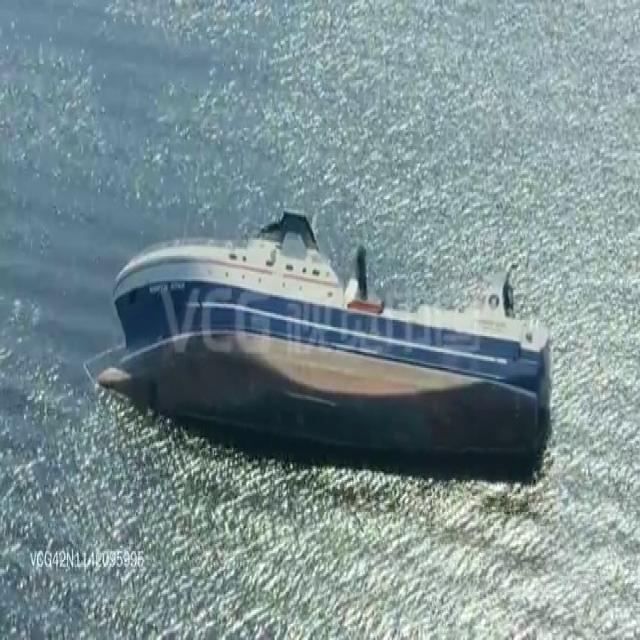passenger ship: (99, 189, 551, 447)
